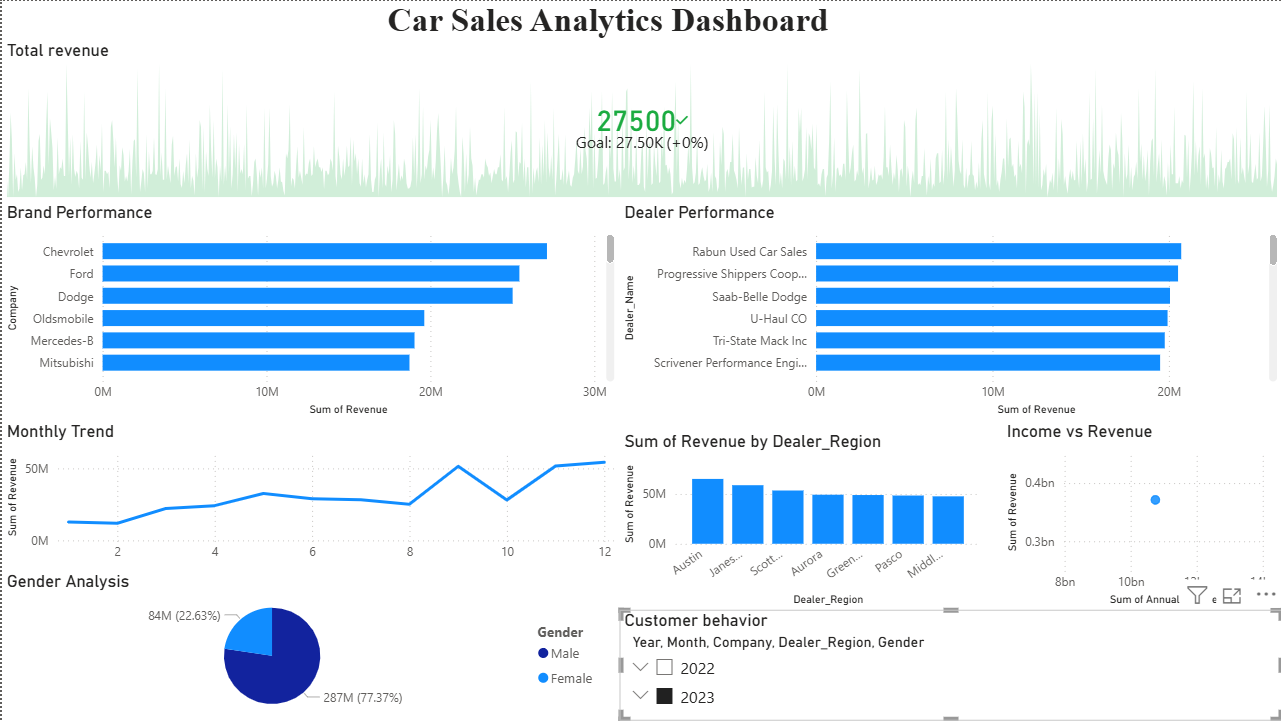

Layout of this report page (visuals, bound fields, positions):
{"tool":"powerbi","page":{"name":"Page 1","canvas":[1280,720],"ordinal":0},"visuals":[{"type":"kpi","title":"Total revenue","fields":{"Indicator":["Sum(clean_car_sales.Revenue)"],"TrendLine":["clean_car_sales.Car_id"],"Goal":["Avg(clean_car_sales.Revenue)"]},"box":[0,39.1,1280.3,162.6],"z":0},{"type":"clusteredBarChart","title":"Brand Performance","fields":{"Category":["clean_car_sales.Company"],"Y":["Sum(clean_car_sales.Revenue)"]},"box":[0,201.7,617.5,218.2],"z":1000},{"type":"columnChart","fields":{"Category":["clean_car_sales.Dealer_Region"],"Y":["Sum(clean_car_sales.Revenue)"]},"box":[617.5,429.5,366.4,179.8],"z":2000},{"type":"lineChart","title":"Monthly Trend","fields":{"Category":["clean_car_sales.Month"],"Y":["Sum(clean_car_sales.Revenue)"]},"box":[0,419.9,617.5,149.6],"z":3000},{"type":"barChart","title":"Dealer Performance","fields":{"Category":["clean_car_sales.Dealer_Name"],"Y":["Sum(clean_car_sales.Revenue)"]},"box":[617.5,201.7,662.8,218.2],"z":4000},{"type":"pieChart","title":"Gender Analysis","fields":{"Category":["clean_car_sales.Gender"],"Y":["Sum(clean_car_sales.Revenue)"]},"box":[0,569.5,606.5,150.9],"z":4001},{"type":"scatterChart","title":"Income vs Revenue","fields":{"X":["Sum(clean_car_sales.Annual Income)"],"Y":["Sum(clean_car_sales.Revenue)"]},"box":[1000.3,419.9,279.9,189.4],"z":4002},{"type":"slicer","title":"Customer behavior","fields":{"Values":["clean_car_sales.Year","clean_car_sales.Month","clean_car_sales.Company","clean_car_sales.Dealer_Region","clean_car_sales.Gender"]},"box":[617.5,609.3,662.8,111.1],"z":4003},{"type":"textbox","title":"Car Sales Analytics Dashboard","box":[234.8,0,742.3,39.1],"z":4004}]}

Visuals, with their boxes in screenshot pixels (x1, y1, x2, y2), scaled from the page's 1280x720 canvas onto the 1281x721 screenshot:
"Total revenue" kpi: crop(0, 39, 1280, 202)
"Brand Performance" clusteredBarChart: crop(0, 202, 618, 420)
columnChart - clean_car_sales.Dealer_Region x Sum(clean_car_sales.Revenue): crop(618, 430, 985, 610)
"Monthly Trend" lineChart: crop(0, 420, 618, 570)
"Dealer Performance" barChart: crop(618, 202, 1280, 420)
"Gender Analysis" pieChart: crop(0, 570, 607, 720)
"Income vs Revenue" scatterChart: crop(1001, 420, 1280, 610)
"Customer behavior" slicer: crop(618, 610, 1280, 720)
"Car Sales Analytics Dashboard" textbox: crop(235, 0, 978, 39)
